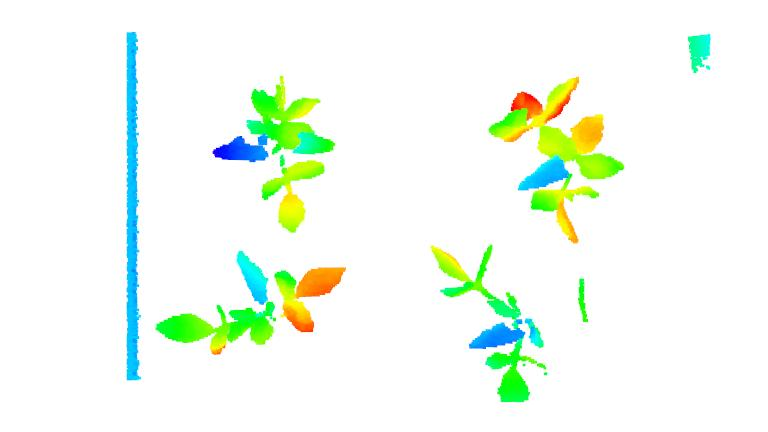mungbean: (493, 72, 624, 248), (421, 234, 548, 403), (158, 249, 344, 355), (215, 80, 336, 234)
